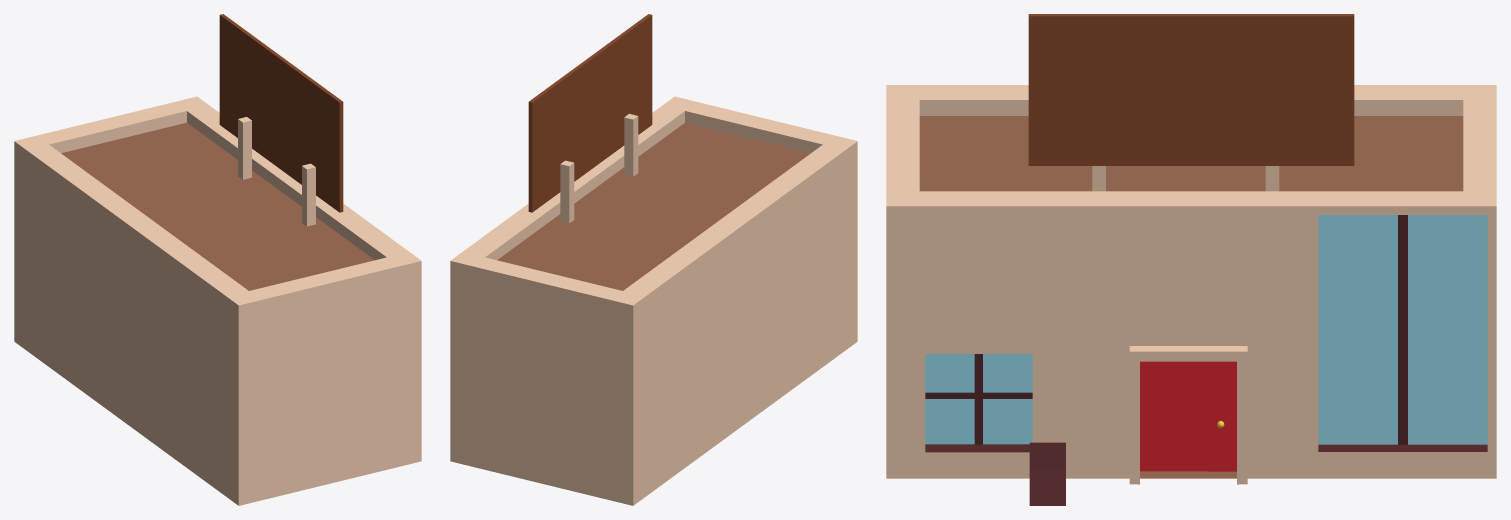
The model's file is CakeShop.fbx.
3 views of the same model, side by side, from view 1: azimuth 30°, elevation 25°; view 2: azimuth 150°, elevation 25°; view 3: azimuth 270°, elevation 25° (orthographic). The views are drawn at different scales.
Parts seen in each view (by area): view 1: Cube.006; view 2: Cube.006; view 3: Cube.006.
Part boxes in pixels (x1,y1,x2,y2): Cube.006: (14, 14, 421, 505); Cube.006: (450, 14, 857, 505); Cube.006: (886, 14, 1496, 505).
Size of the model in its own units: 12.05 by 16.96 by 21.04.
